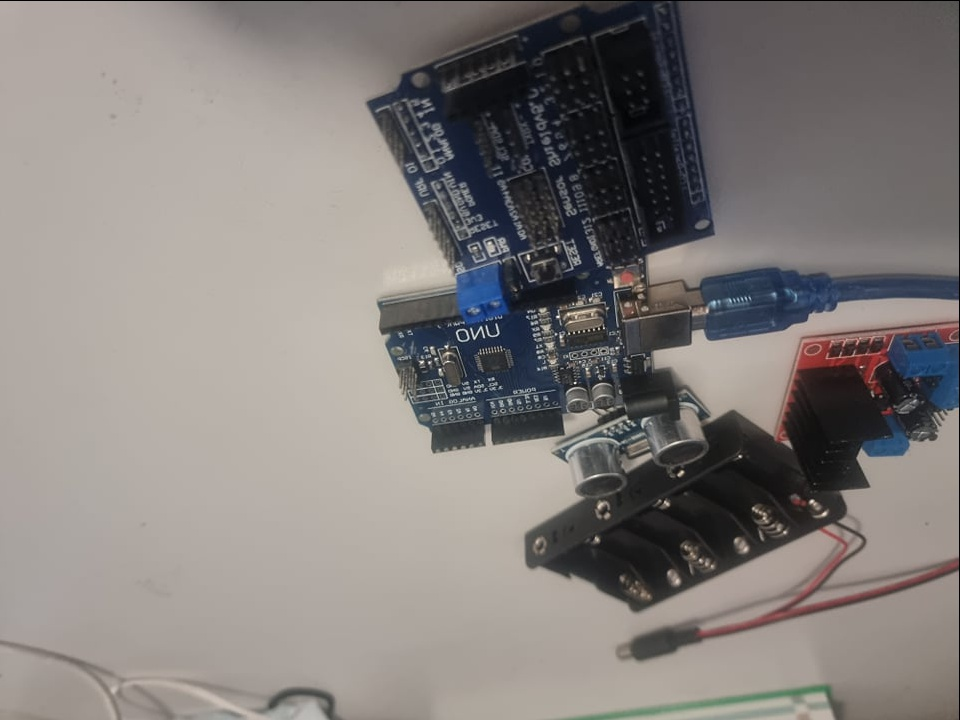5V EXPANSION: (370, 0, 718, 320)
BATTERY BOX: (525, 410, 828, 620)
MOTOR: (785, 311, 960, 496)
SENSOR: (567, 382, 713, 501)
UNO R3: (386, 262, 682, 444)
